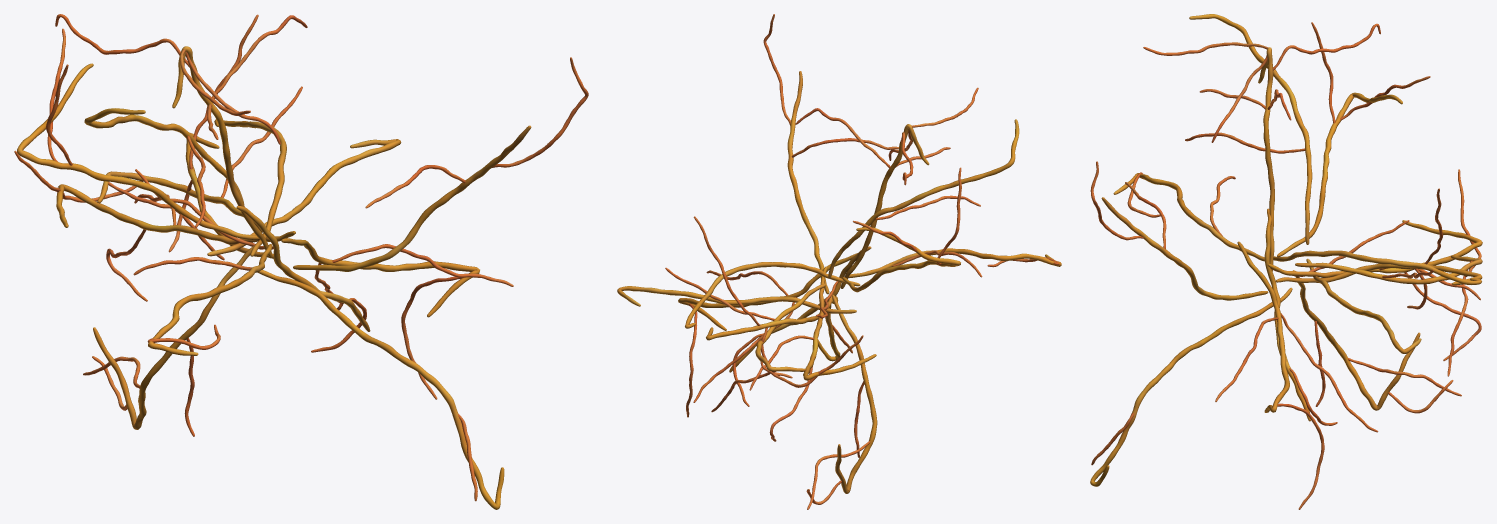
Rendered from cytoskeleton.glb.
3 renders of one model, left to right at view 1: azimuth 30°, elevation 25°; view 2: azimuth 150°, elevation 25°; view 3: azimuth 270°, elevation 25°, orthographic. The views are drawn at different scales.
Visible parts, largest first — view 1: cytoskeleton-filaments; view 2: cytoskeleton-filaments; view 3: cytoskeleton-filaments.
Boxes of the visible parts, left/top/right/bottom form: cytoskeleton-filaments: left=14, top=14, right=588, bottom=509; cytoskeleton-filaments: left=617, top=14, right=1061, bottom=509; cytoskeleton-filaments: left=1090, top=14, right=1482, bottom=509.
Size of what is drawn, in the model's own units: 12.17 by 12.19 by 12.15.
